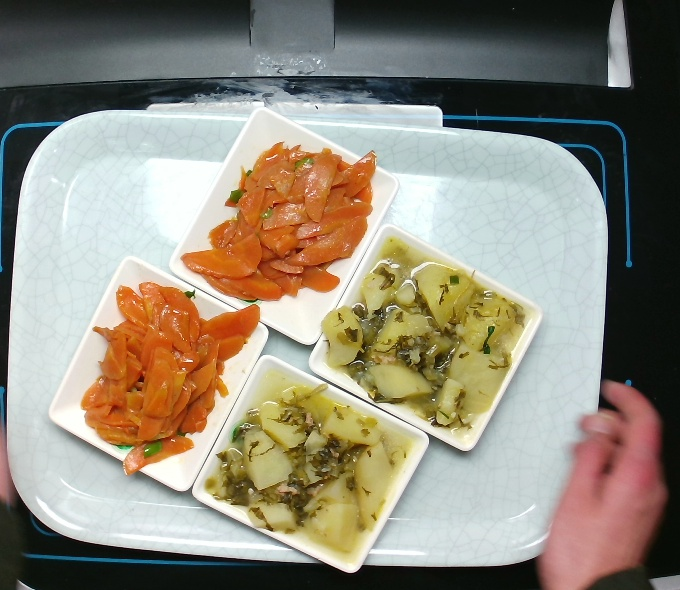wcq-HuLuoBo: (77, 277, 261, 481), (193, 138, 383, 305)
wcq-XueCaiTuDou: (216, 373, 407, 560), (326, 258, 518, 439)
